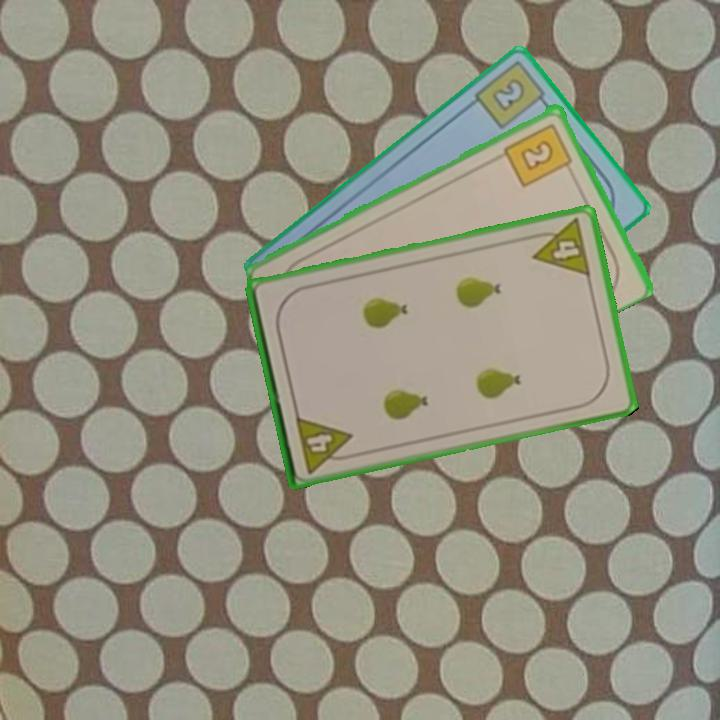2b: (470, 57, 554, 132), (501, 119, 577, 190)
4p: (525, 215, 594, 279), (292, 412, 358, 476)
